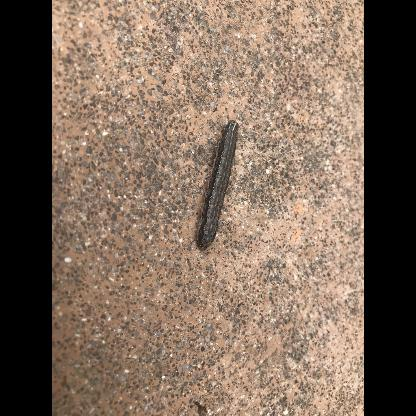Fall Armyworm Larvae: (194, 118, 240, 254)
